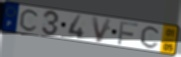3: (41, 10, 60, 37)
4: (66, 14, 87, 41)
C: (18, 8, 41, 33), (139, 25, 162, 50)
F: (116, 21, 140, 46)
V: (91, 16, 113, 44)
